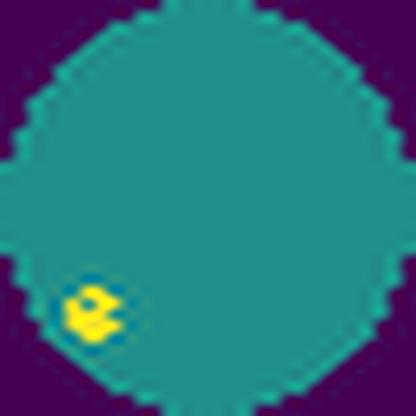Loc: (52, 276, 132, 352)
